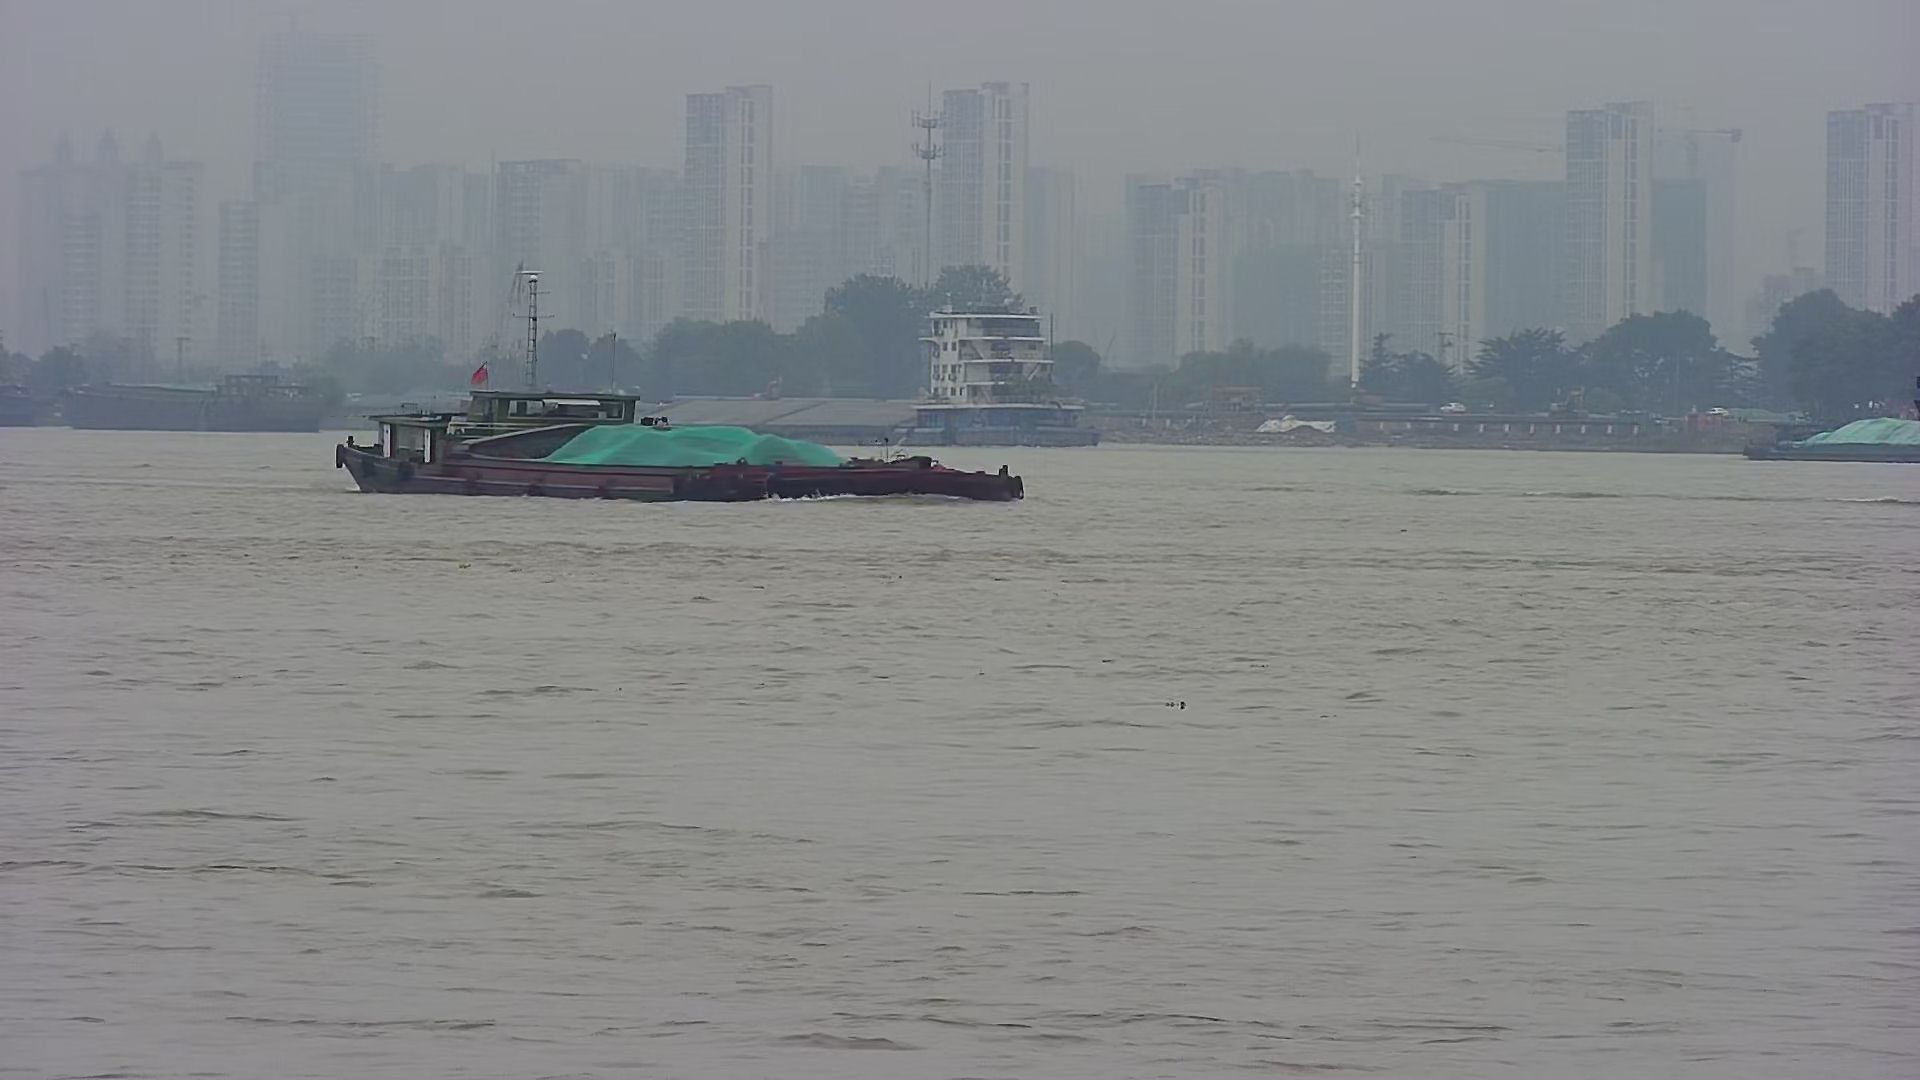ship: (305, 353, 1054, 512), (632, 278, 1135, 450), (38, 357, 344, 442)
